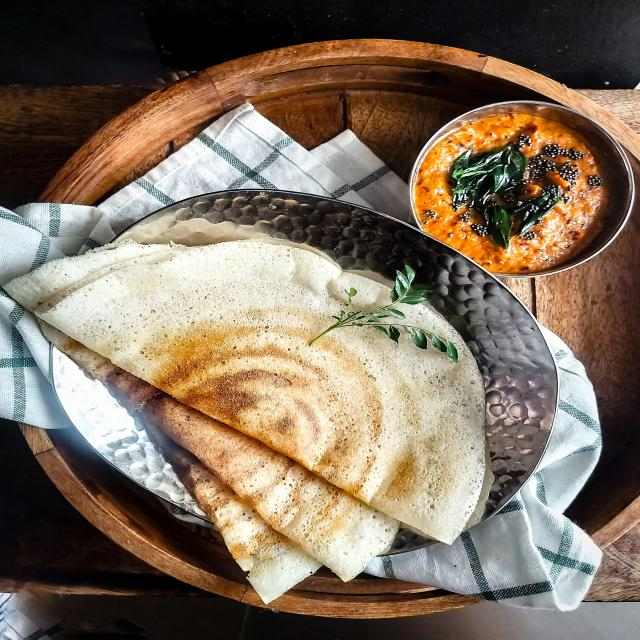dosa: (3, 240, 400, 581), (41, 240, 485, 543), (147, 430, 322, 603)
kaara chutney: (413, 109, 627, 279)
